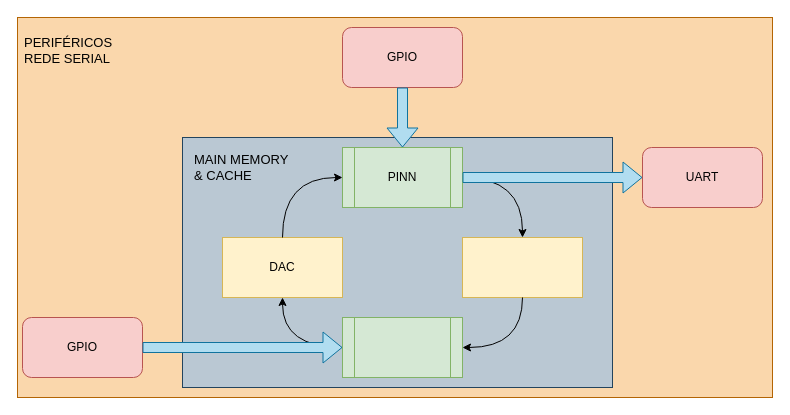
The diagram is 790 pixels wide and 415 high, and some of its shapes have lost their labels. The centre of each missing label's shape, as x and y in pixels:
ADC: the point at 522,267
FSM: the point at 402,347
